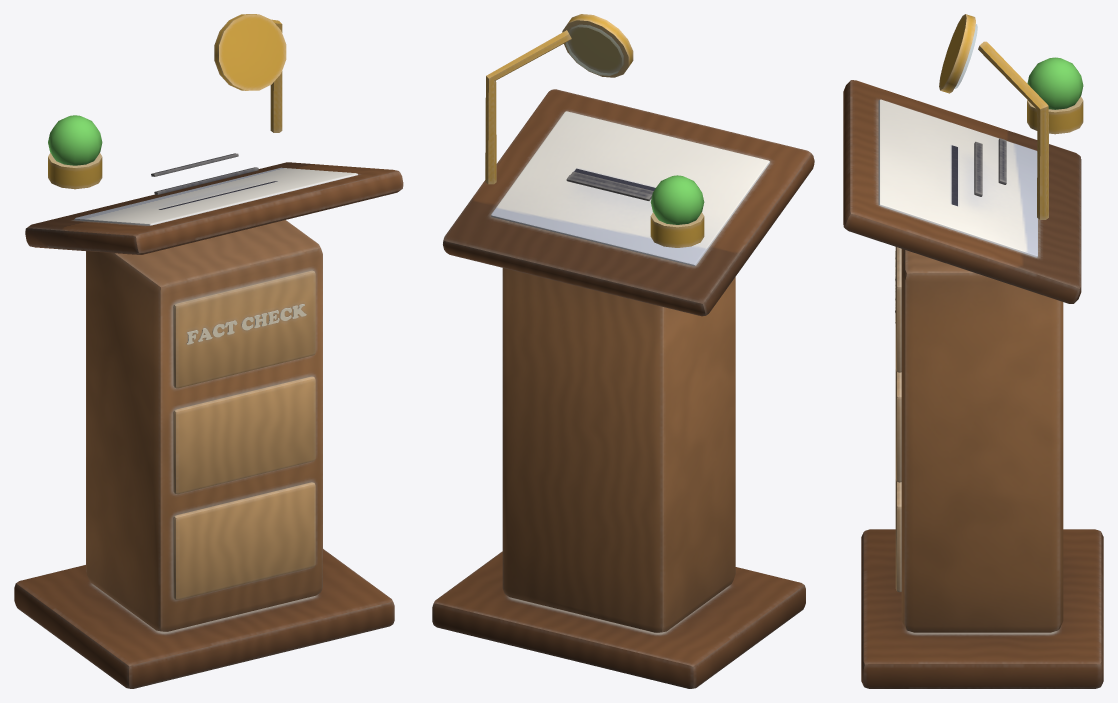
The model's file is plaque_checker.glb.
3 renders of one model, left to right at view 1: azimuth 30°, elevation 25°; view 2: azimuth 150°, elevation 25°; view 3: azimuth 270°, elevation 25°, orthographic. The views are drawn at different scales.
Parts seen in each view (by area): view 1: SM_PlaqueChecker; view 2: SM_PlaqueChecker; view 3: SM_PlaqueChecker.
Part boxes in pixels (x1=…): SM_PlaqueChecker: x1=14, y1=14, x2=403, y2=688; SM_PlaqueChecker: x1=432, y1=14, x2=814, y2=688; SM_PlaqueChecker: x1=843, y1=14, x2=1103, y2=688.
Size of what is drawn, in the model's own units: 0.8 by 1.7 by 0.6447.
3 materials, 2 textured.
